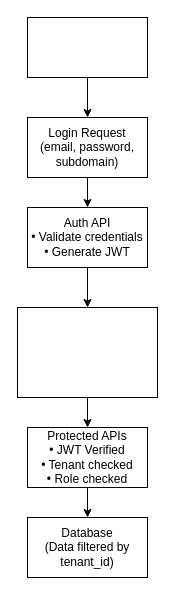
Image size: 175x595. Some labels were removed from this diagram. The shapes that lost their labels are listed below. From the top down, each one's centre as x and y in pixels, then its label:
At [87,47]: "User (Browser)".
At [87,352]: "JWT Token Contains: • userId • tenantId • role".
